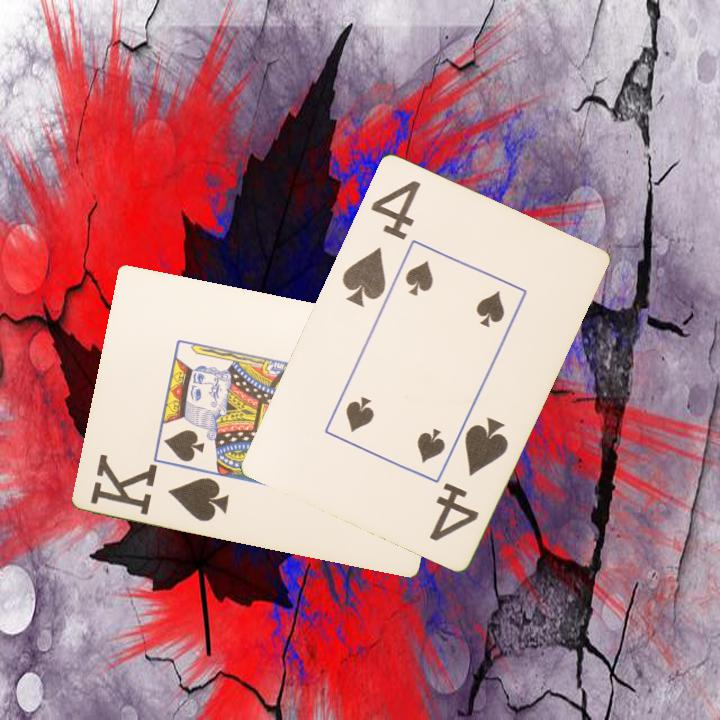4s: (338, 176, 424, 309), (425, 412, 511, 544)
Ks: (87, 451, 233, 525)
